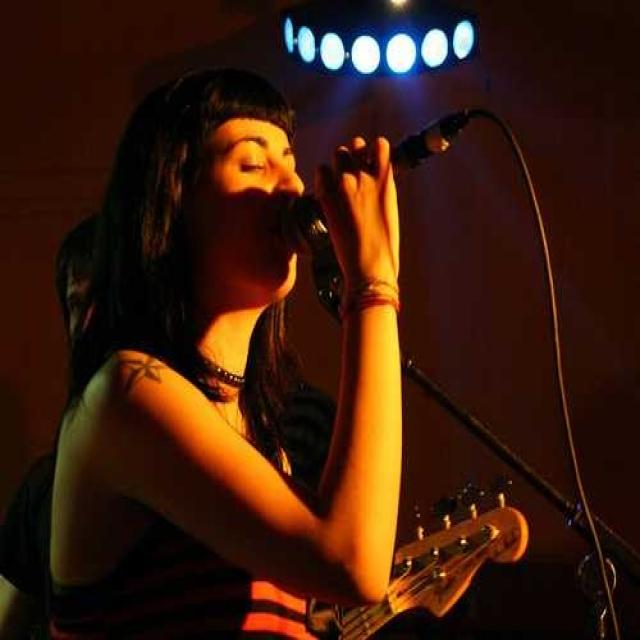microphone: (281, 112, 474, 325), (324, 116, 460, 192)
